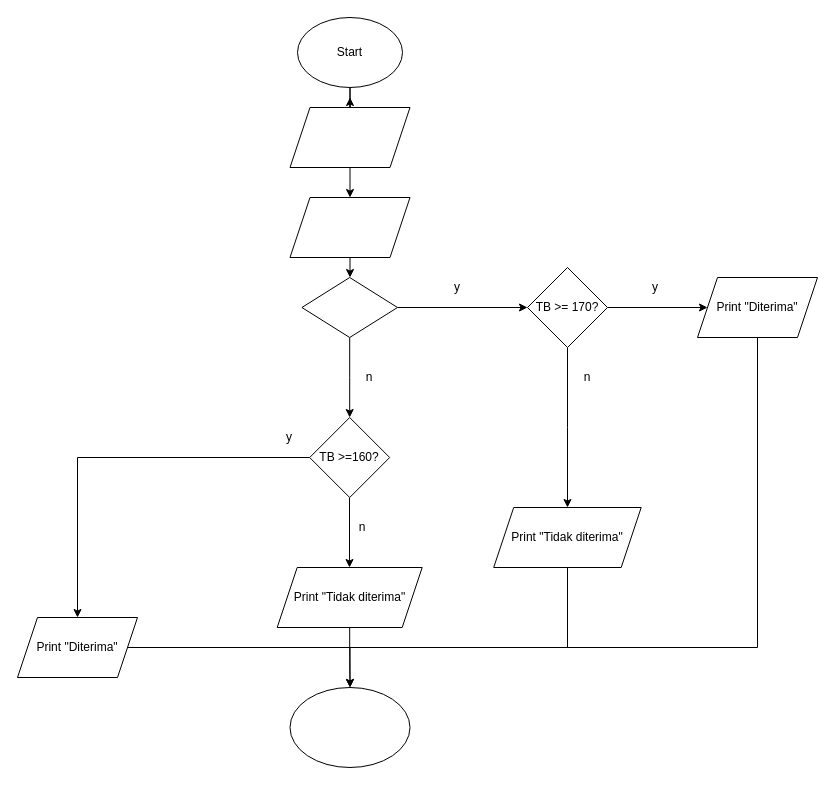
Image size: 835x785. Some labels were removed from this diagram. The shapes that lost their labels are listed below. From the top down, each one's centre as x and y in pixels, then its label:
(349,137): input JK
(349,227): input TB
(349,307): JK = laki-lak?
(349,727): End
